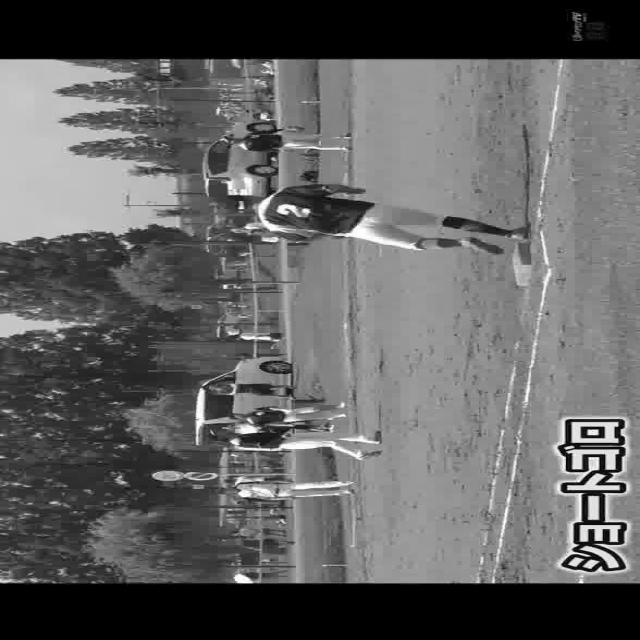base: (512, 241, 532, 285)
shoe: (456, 236, 508, 256), (504, 220, 540, 240), (350, 447, 390, 461), (371, 426, 390, 444)
